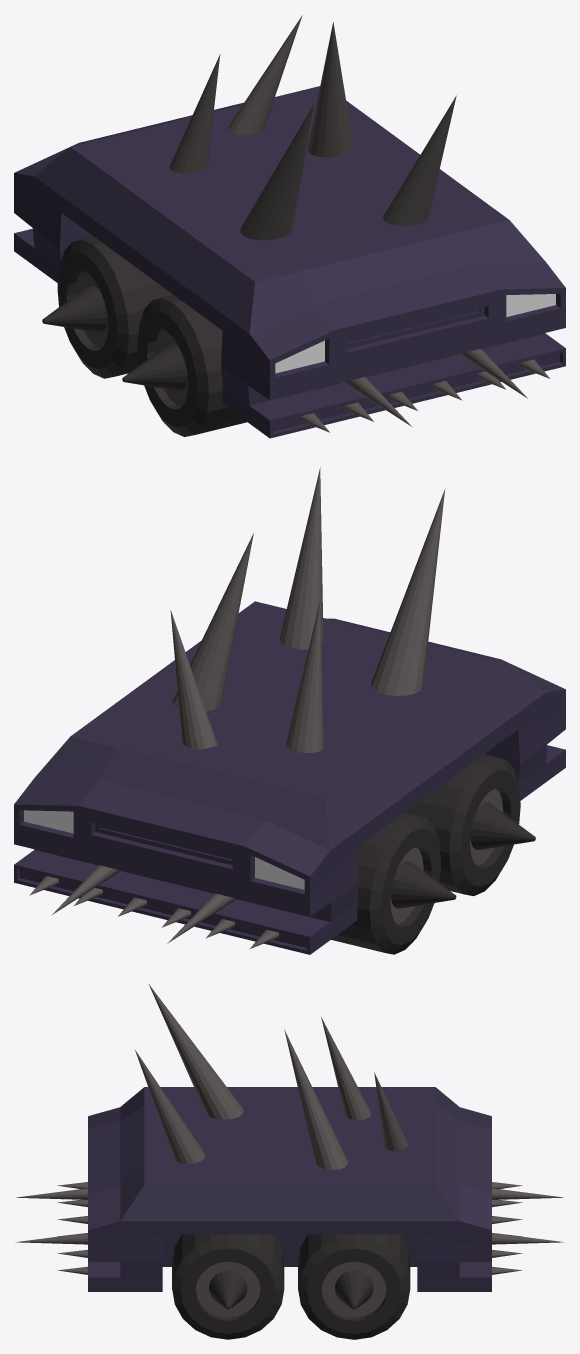
The model's file is SpikeCar.fbx.
3 views of the same model, one above another, from view 1: azimuth 30°, elevation 25°; view 2: azimuth 150°, elevation 25°; view 3: azimuth 270°, elevation 25° (orthographic). The views are drawn at different scales.
Visible parts, largest first — view 1: CarBaseSmall.003, Wheels.010, Wheels.009, TopSpikes.002, TopSpikes.004, TopSpikes.003, TopSpikes.005, TopSpikes.006, TopSpikes, BottomSpikes; view 2: CarBaseSmall.003, Wheels.009, Wheels.010, TopSpikes.002, TopSpikes.003, TopSpikes.004, TopSpikes.005, TopSpikes.006, TopSpikes, BottomSpikes; view 3: CarBaseSmall.003, Wheels.010, Wheels.009, TopSpikes.002, TopSpikes.004, TopSpikes.003, TopSpikes, TopSpikes.005, BottomSpikes, TopSpikes.006.
Part boxes in pixels (left/top/right/bottom): CarBaseSmall.003: left=14, top=86, right=565, bottom=438; Wheels.010: left=42, top=236, right=173, bottom=378; Wheels.009: left=122, top=295, right=246, bottom=436; TopSpikes.002: left=240, top=104, right=314, bottom=240; TopSpikes.004: left=307, top=22, right=353, bottom=157; TopSpikes.003: left=383, top=95, right=456, bottom=225; TopSpikes.005: left=169, top=54, right=220, bottom=173; TopSpikes.006: left=228, top=15, right=302, bottom=135; TopSpikes: left=343, top=348, right=527, bottom=426; BottomSpikes: left=300, top=359, right=549, bottom=432; CarBaseSmall.003: left=14, top=601, right=565, bottom=954; Wheels.009: left=405, top=754, right=535, bottom=896; Wheels.010: left=331, top=812, right=456, bottom=954; TopSpikes.002: left=371, top=488, right=445, bottom=695; TopSpikes.003: left=280, top=467, right=323, bottom=649; TopSpikes.004: left=172, top=533, right=253, bottom=711; TopSpikes.005: left=286, top=599, right=323, bottom=752; TopSpikes.006: left=170, top=610, right=217, bottom=750; TopSpikes: left=51, top=865, right=236, bottom=943; BottomSpikes: left=29, top=876, right=279, bottom=948; CarBaseSmall.003: left=88, top=1087, right=491, bottom=1291; Wheels.010: left=298, top=1234, right=410, bottom=1339; Wheels.009: left=172, top=1234, right=284, bottom=1339; TopSpikes.002: left=148, top=984, right=243, bottom=1119; TopSpikes.004: left=284, top=1029, right=348, bottom=1169; TopSpikes.003: left=135, top=1050, right=205, bottom=1163; TopSpikes: left=15, top=1188, right=564, bottom=1244; TopSpikes.005: left=321, top=1017, right=371, bottom=1120; BottomSpikes: left=57, top=1182, right=522, bottom=1274; TopSpikes.006: left=374, top=1072, right=407, bottom=1151.
Size of the model in its own units: 3.21 by 2.56 by 4.72.
